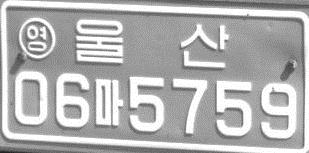0: (13, 69, 49, 126)
5: (214, 80, 252, 137), (127, 75, 164, 133)
6: (53, 72, 89, 129)
7: (171, 78, 207, 134)
9: (259, 82, 297, 139)
마: (94, 78, 123, 128)
영: (17, 16, 56, 60)
울산_D: (75, 18, 228, 69)
